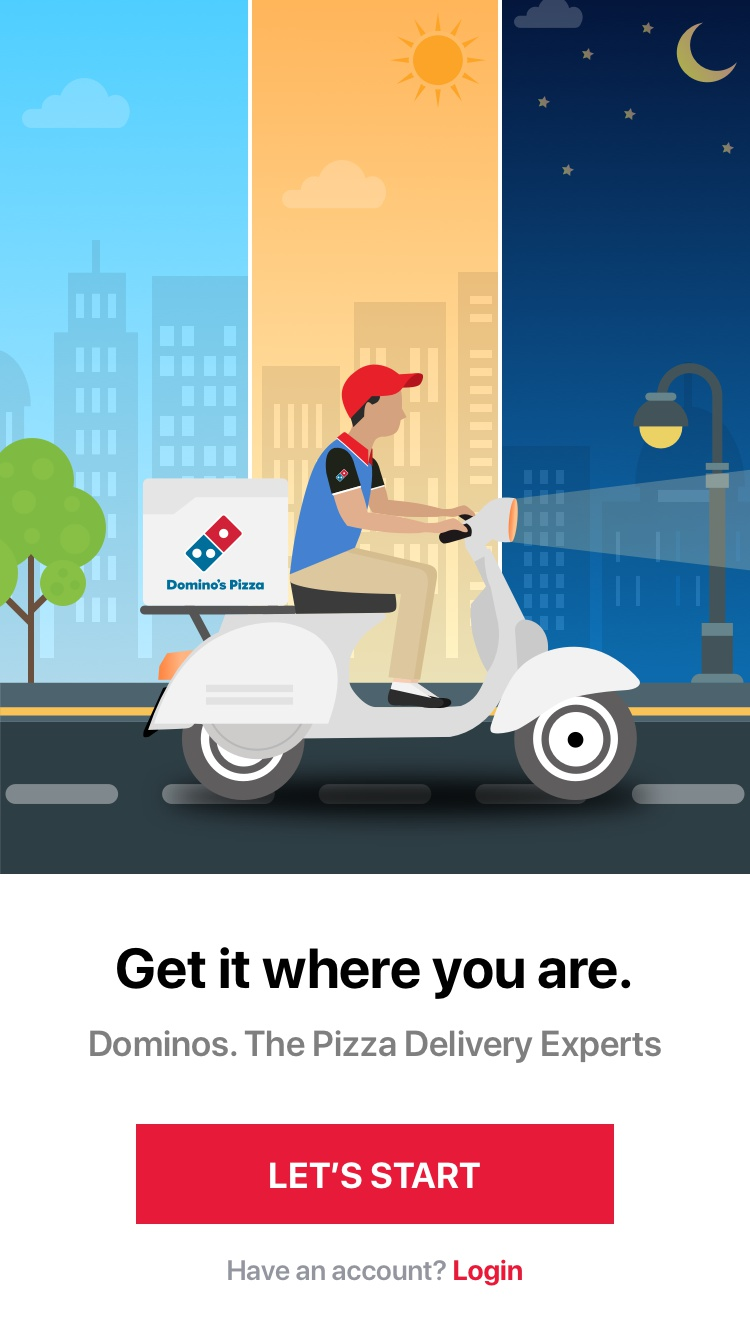Image: (1, 1, 750, 874)
Text: (117, 947, 631, 1000), (90, 1029, 662, 1063), (228, 1259, 447, 1281), (454, 1259, 523, 1287)
TextButton: (136, 1124, 615, 1224)
